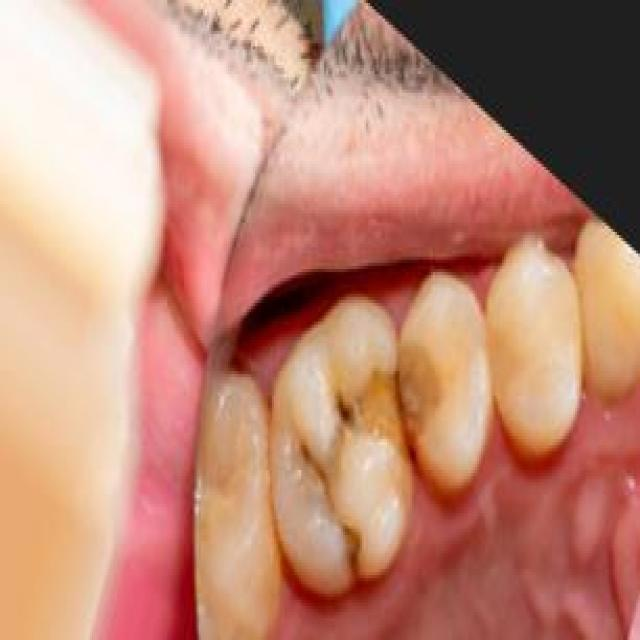caries: (327, 321, 440, 461), (292, 424, 384, 588)
